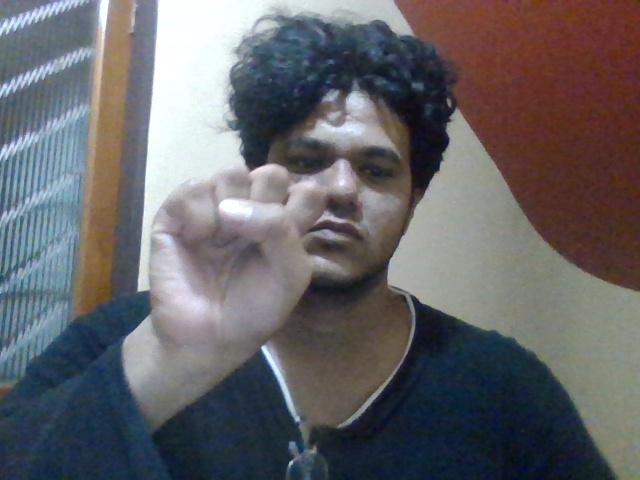no: (143, 160, 327, 333)
